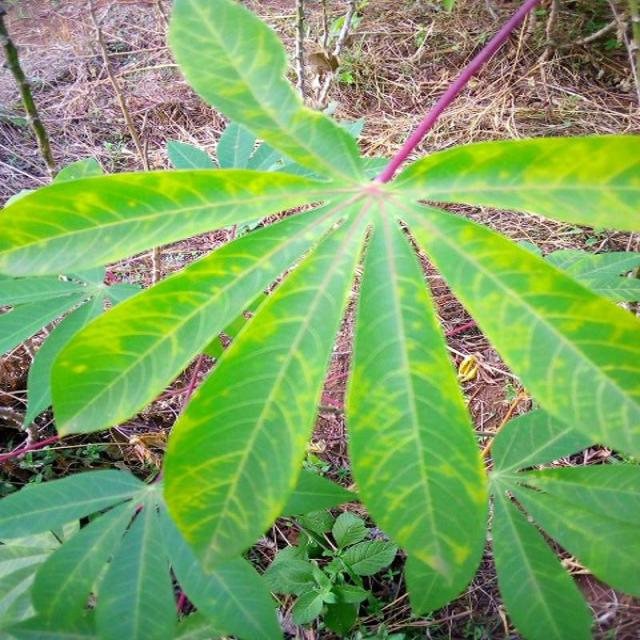Mosaico: (30, 73, 613, 543)
